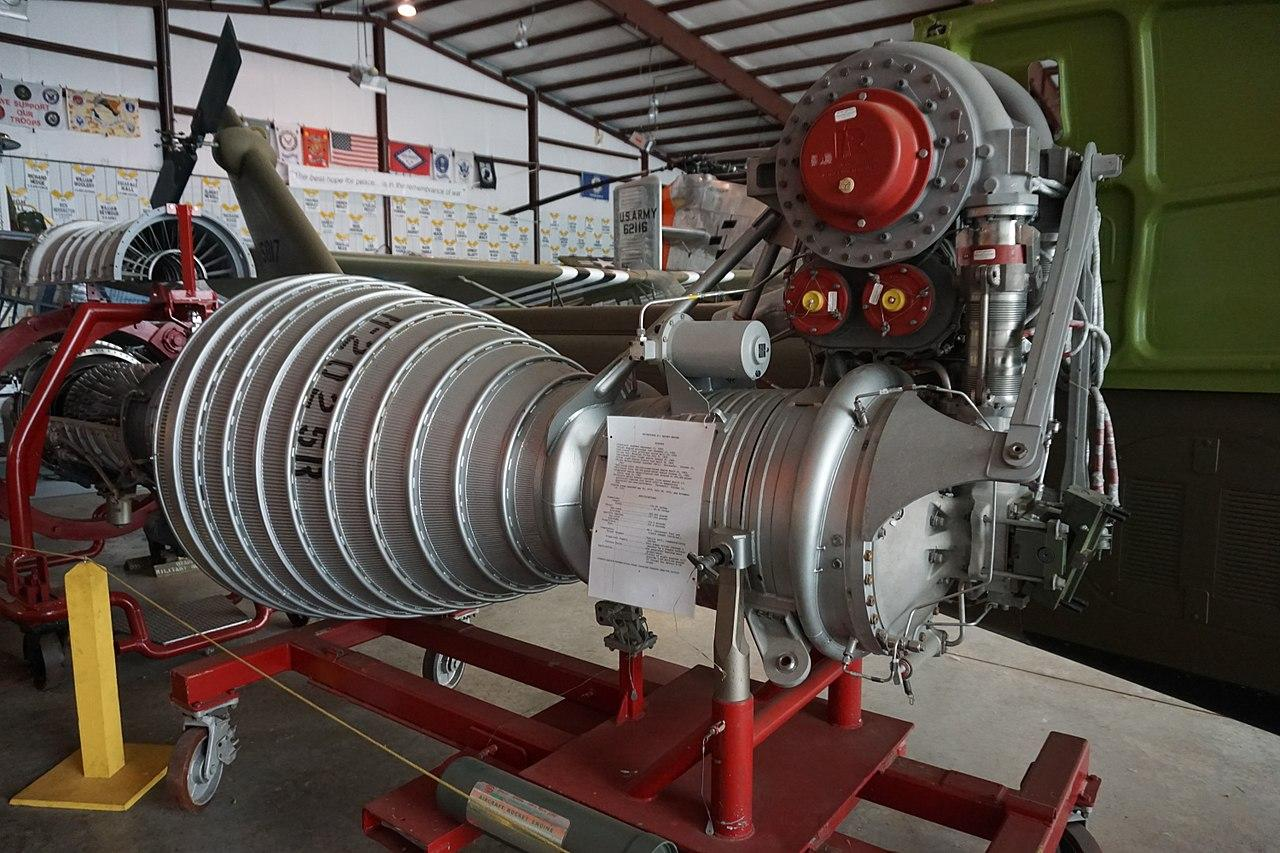thruster: (147, 269, 653, 624)
